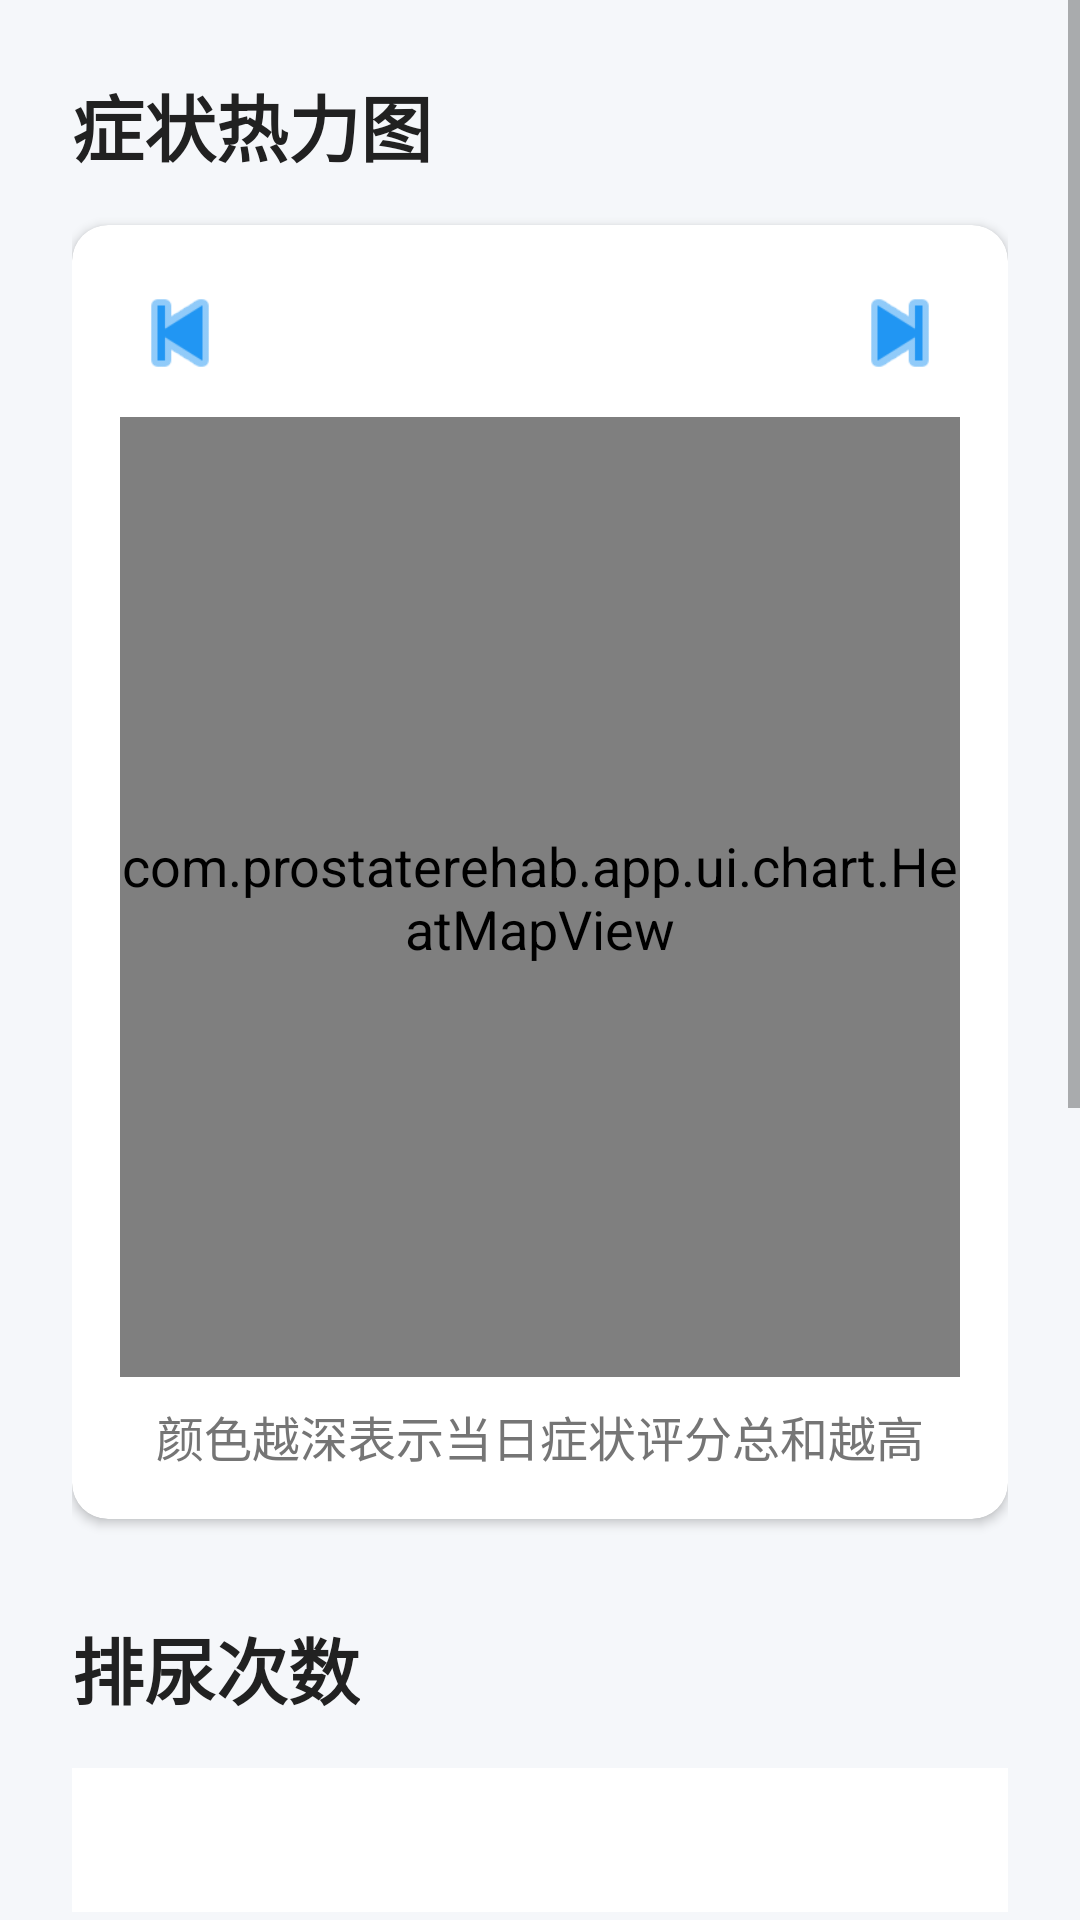

Named icons in this screenshot (1080*1920) and their centers, [x,y]:
上一月: [180,333]
下一月: [900,333]
